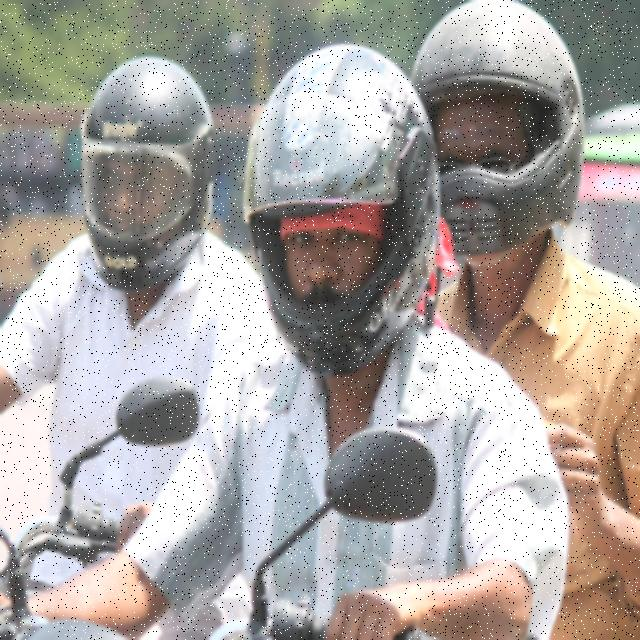with-helmet: (243, 37, 443, 382), (412, 0, 587, 263), (79, 55, 216, 294)
